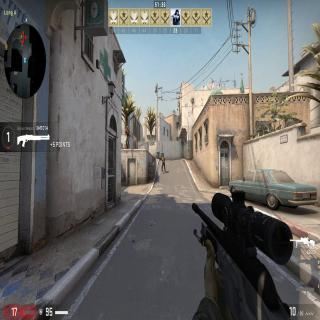T-Body: (124, 125, 131, 148), (160, 154, 167, 174)
T-Head: (162, 154, 164, 157), (126, 126, 128, 129)
